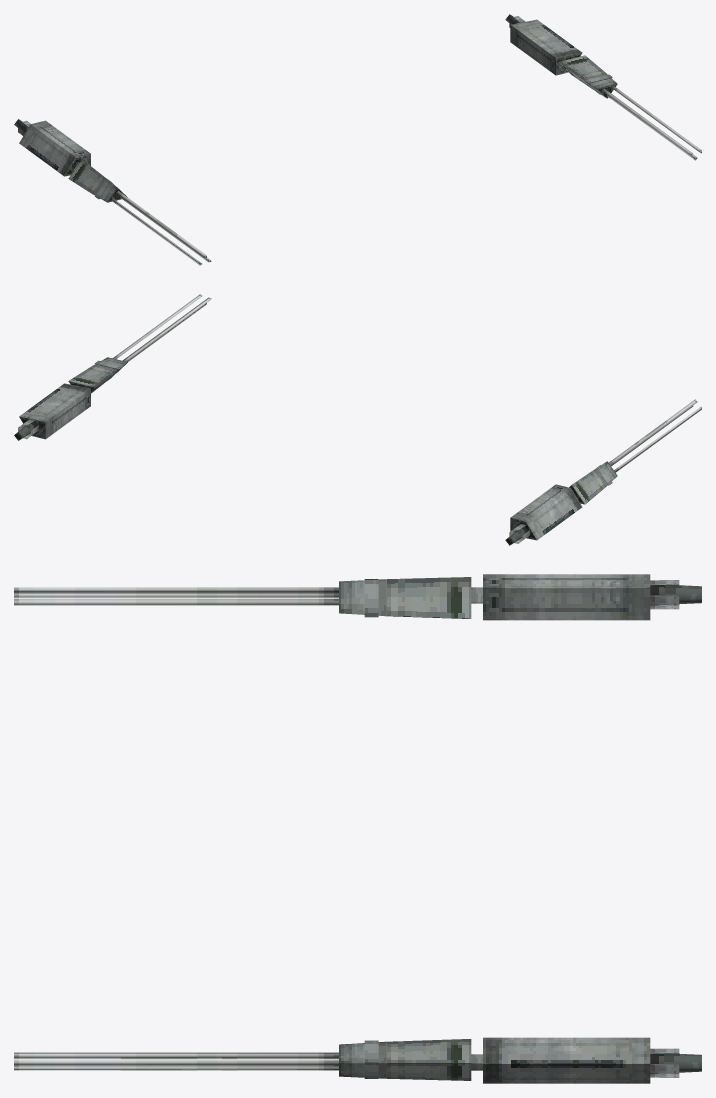
The model's file is xwing_weapon1_pos_s04_l2.fbx.
The picture shows the model from 3 angles, top to bottom: view 1: azimuth 30°, elevation 25°; view 2: azimuth 150°, elevation 25°; view 3: azimuth 270°, elevation 25°; orthographic projection. The views are drawn at different scales.
Parts seen in each view (by area): view 1: mesh_node; view 2: mesh_node; view 3: mesh_node.
Boxes of the visible parts, x1,y1,x2,y2 form: mesh_node: (14, 14, 701, 265); mesh_node: (14, 294, 701, 545); mesh_node: (14, 574, 701, 1083).
Size of the model in its own units: 14.48 by 0.9404 by 9.05.
1 material, 1 textured.
